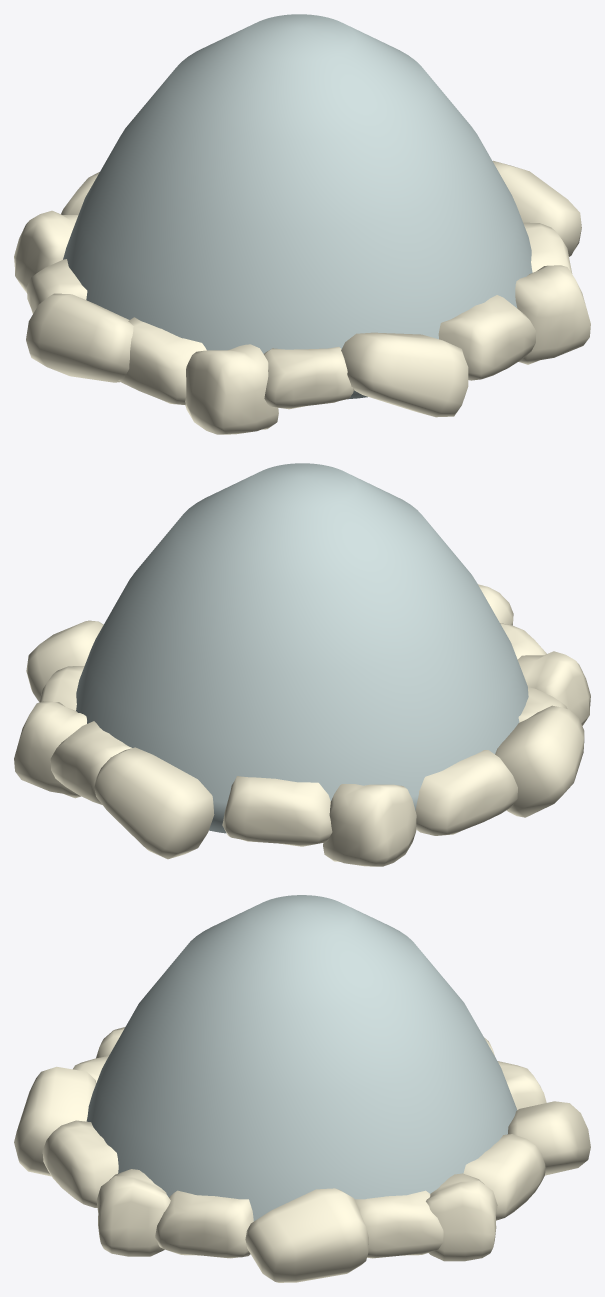
File: 빙수얼음(엔딩).fbx
3 views of the same model, one above another, from view 1: azimuth 30°, elevation 25°; view 2: azimuth 150°, elevation 25°; view 3: azimuth 270°, elevation 25° (orthographic). The views are drawn at different scales.
Visible parts, largest first — view 1: 떡4.001; view 2: 떡4.001; view 3: 떡4.001.
Boxes of the visible parts, x1,y1,x2,y2 form: 떡4.001: (14,14,590,434); 떡4.001: (14,463,590,866); 떡4.001: (14,895,590,1282).
Size of the model in its own units: 1561 by 816 by 1563.
